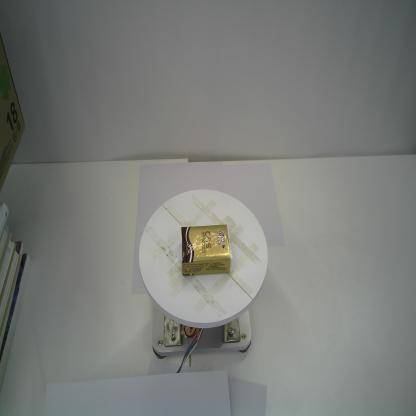Tissue: (180, 224, 231, 276)
